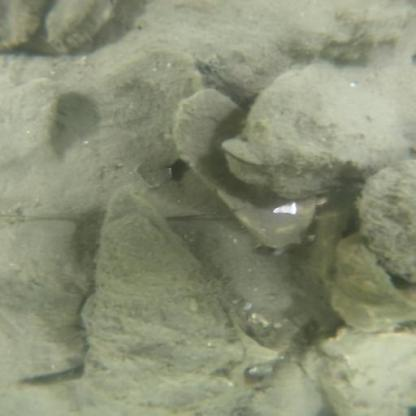Oyster-Closed: (335, 242, 412, 328), (234, 361, 322, 413)
Oyster-Open: (82, 191, 240, 411), (231, 65, 408, 195), (306, 331, 416, 411), (359, 162, 416, 283), (46, 1, 129, 53), (0, 0, 48, 49)
